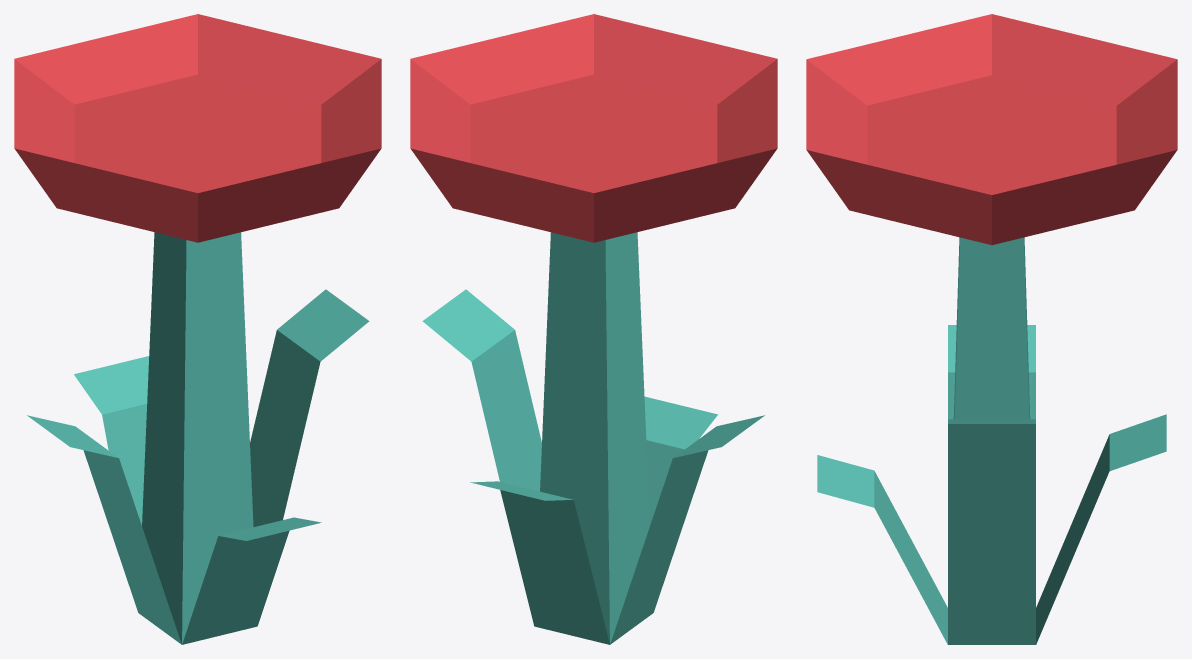
Rendered from flower_red3.fbx.
3 views of the same model, side by side, from view 1: azimuth 30°, elevation 25°; view 2: azimuth 150°, elevation 25°; view 3: azimuth 270°, elevation 25° (orthographic).
Parts seen in each view (by area): view 1: flower_red3; view 2: flower_red3; view 3: flower_red3.
Part boxes in pixels (bbox=[...]): flower_red3: bbox=[14, 14, 381, 644]; flower_red3: bbox=[410, 14, 777, 644]; flower_red3: bbox=[806, 14, 1177, 644].
Bounding box in the file's own units: 1.51 × 2.03 × 1.31.
